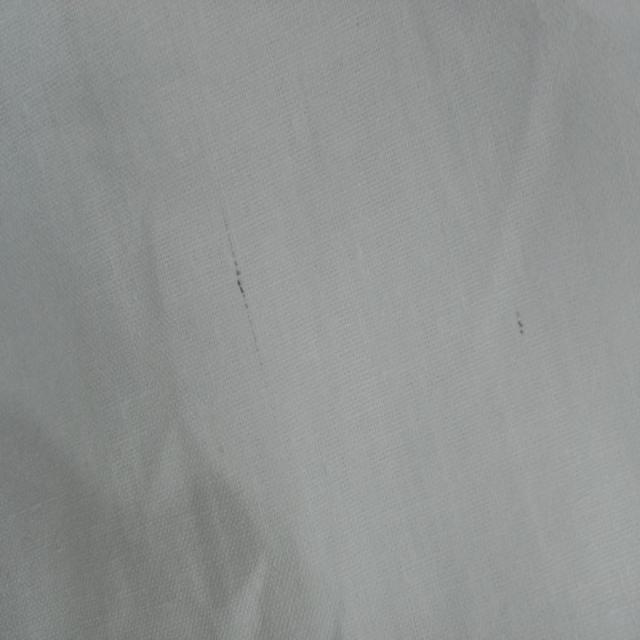contamination: (216, 191, 264, 362), (509, 307, 532, 348)
